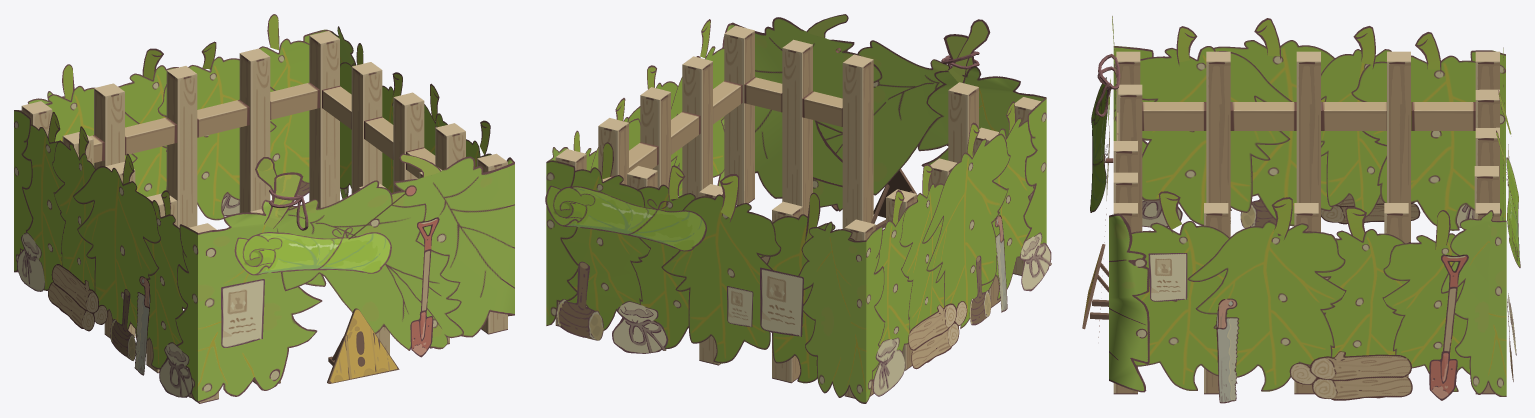
The model's file is Mesh_Home_Construction_44_SM.fbx.
The picture shows the model from 3 angles, left to right: view 1: azimuth 30°, elevation 25°; view 2: azimuth 150°, elevation 25°; view 3: azimuth 270°, elevation 25°; orthographic projection. The views are drawn at different scales.
Parts seen in each view (by area): view 1: Mesh_Home_Construction_44_P, Mesh_Home_Construction_44; view 2: Mesh_Home_Construction_44_P, Mesh_Home_Construction_44; view 3: Mesh_Home_Construction_44_P, Mesh_Home_Construction_44.
Part boxes in pixels (bbox=[...]): Mesh_Home_Construction_44_P: bbox=[17, 14, 491, 397]; Mesh_Home_Construction_44: bbox=[14, 26, 514, 403]; Mesh_Home_Construction_44_P: bbox=[545, 14, 1051, 396]; Mesh_Home_Construction_44: bbox=[546, 17, 1046, 403]; Mesh_Home_Construction_44_P: bbox=[1090, 16, 1520, 403]; Mesh_Home_Construction_44: bbox=[1082, 46, 1506, 396].
Bounding box in the file's own units: 419 × 283 × 439.
Materials: 1 (1 with a texture image).
